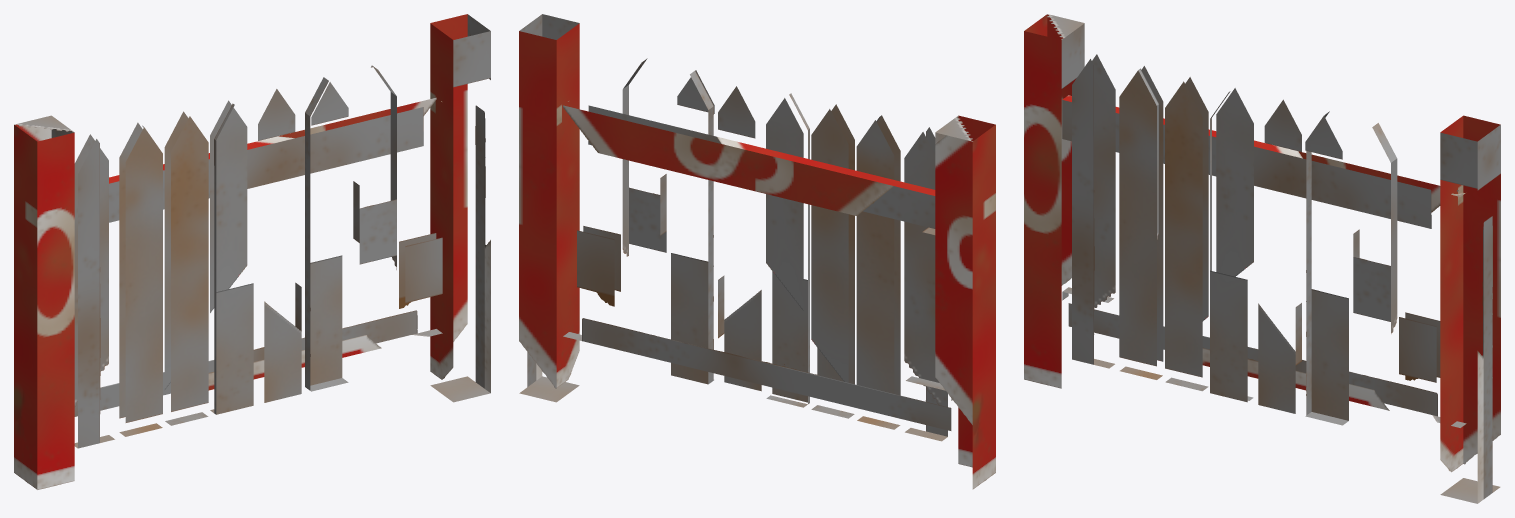
File: fence_001_full.fbx
3 renders of one model, left to right at view 1: azimuth 30°, elevation 25°; view 2: azimuth 150°, elevation 25°; view 3: azimuth 330°, elevation 25°, orthographic.
Visible parts, largest first — view 1: Cube; view 2: Cube; view 3: Cube.
Boxes of the visible parts, x1,y1,x2,y2 form: Cube: (14,14,490,489); Cube: (519,14,995,489); Cube: (1024,14,1500,503).
Bounding box in the file's own units: 3.61 × 2.76 × 0.3209.
